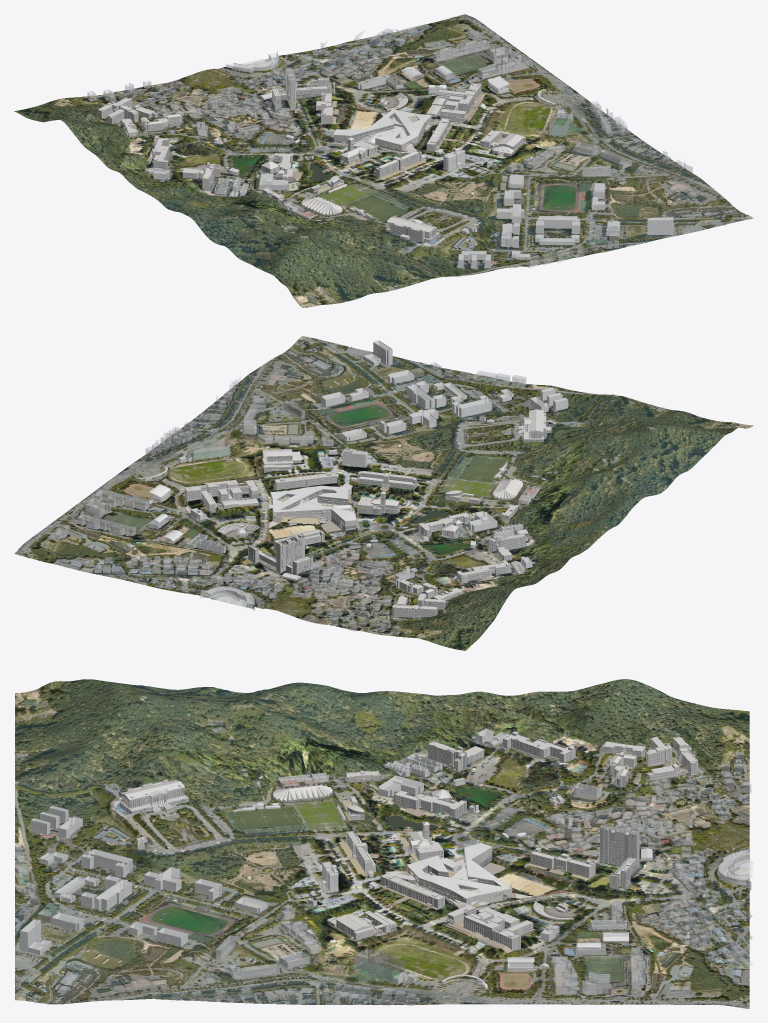
The model's file is campus_v3.glb.
The picture shows the model from 3 angles, top to bottom: view 1: azimuth 30°, elevation 25°; view 2: azimuth 150°, elevation 25°; view 3: azimuth 270°, elevation 25°; orthographic projection. The views are drawn at different scales.
Parts seen in each view (by area): view 1: TERRAIN, MASS_context, MASS_campus, BLD_starcenter, BLD_eng1, BLD_startower, BLD_mainhall, FAC_starvill, BLD_jilli, BLD_studentunion, BLD_art, BLD_cheonjam (+2 smaller); view 2: TERRAIN, MASS_context, MASS_campus, BLD_starcenter, BLD_startower, BLD_eng1, FAC_starvill, BLD_jilli, BLD_art, BLD_mainhall, BLD_cheonjam, BLD_studentunion (+1 smaller); view 3: TERRAIN, MASS_context, MASS_campus, BLD_starcenter, BLD_eng1, BLD_startower, BLD_mainhall, FAC_starvill, BLD_art, BLD_pyeonghwa, BLD_cheonjam, BLD_jayu (+7 smaller).
Part boxes in pixels (x1=…): TERRAIN: x1=14, y1=14, x2=753, y2=307; MASS_context: x1=87, y1=26, x2=724, y2=289; MASS_campus: x1=145, y1=51, x2=673, y2=268; BLD_starcenter: x1=331, y1=109, x2=436, y2=155; BLD_eng1: x1=427, y1=82, x2=486, y2=120; BLD_startower: x1=272, y1=67, x2=335, y2=109; BLD_mainhall: x1=385, y1=216, x2=440, y2=242; FAC_starvill: x1=97, y1=97, x2=157, y2=123; BLD_jilli: x1=373, y1=150, x2=426, y2=179; BLD_studentunion: x1=340, y1=137, x2=379, y2=168; BLD_art: x1=261, y1=153, x2=302, y2=181; BLD_cheonjam: x1=146, y1=136, x2=169, y2=168; TERRAIN: x1=14, y1=336, x2=753, y2=650; MASS_context: x1=54, y1=362, x2=664, y2=634; MASS_campus: x1=139, y1=340, x2=568, y2=610; BLD_starcenter: x1=268, y1=483, x2=359, y2=531; BLD_startower: x1=248, y1=535, x2=313, y2=574; BLD_eng1: x1=182, y1=480, x2=258, y2=511; FAC_starvill: x1=392, y1=593, x2=445, y2=618; BLD_jilli: x1=357, y1=471, x2=419, y2=490; BLD_art: x1=418, y1=512, x2=471, y2=537; BLD_mainhall: x1=518, y1=409, x2=551, y2=441; BLD_cheonjam: x1=456, y1=560, x2=510, y2=583; BLD_studentunion: x1=357, y1=491, x2=407, y2=514; TERRAIN: x1=15, y1=679, x2=749, y2=1008; MASS_context: x1=15, y1=719, x2=753, y2=1005; MASS_campus: x1=20, y1=728, x2=753, y2=989; BLD_starcenter: x1=386, y1=843, x2=532, y2=908; BLD_eng1: x1=446, y1=907, x2=533, y2=952; BLD_startower: x1=600, y1=824, x2=639, y2=888; BLD_mainhall: x1=119, y1=779, x2=188, y2=815; FAC_starvill: x1=646, y1=737, x2=697, y2=779; BLD_art: x1=394, y1=789, x2=466, y2=818; BLD_pyeonghwa: x1=528, y1=847, x2=595, y2=880; BLD_cheonjam: x1=503, y1=731, x2=575, y2=762; BLD_jayu: x1=379, y1=873, x2=444, y2=909.
Size of the model in its own units: 1062 by 113 by 1176.
Materials: 16 (1 with a texture image).
